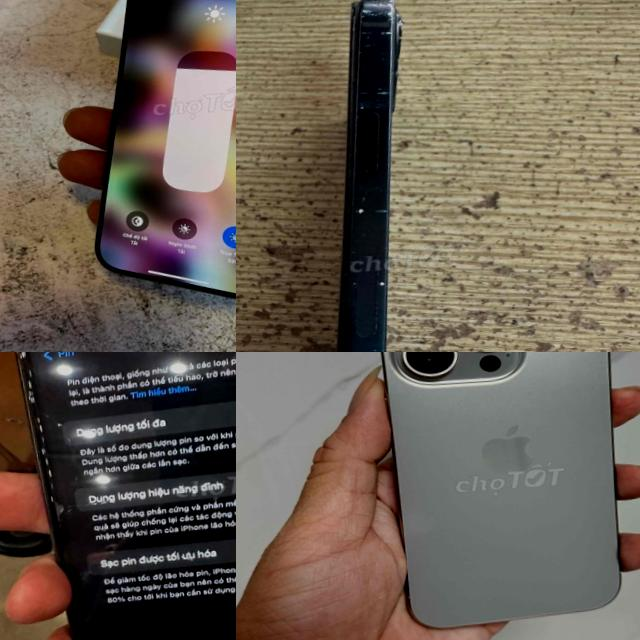gen_11: (3, 352, 236, 640)
gen_12_13: (274, 0, 473, 352)
gen_15: (360, 352, 640, 640), (56, 0, 236, 307)
